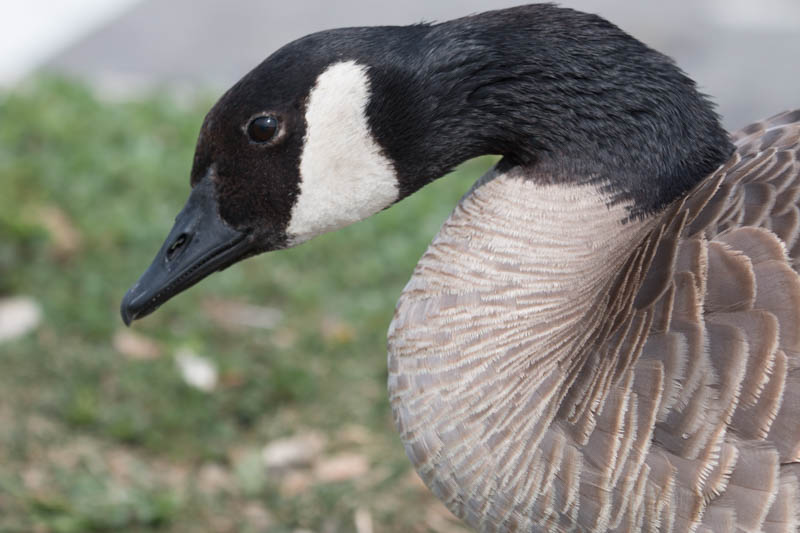goose-head: (117, 26, 435, 327)
